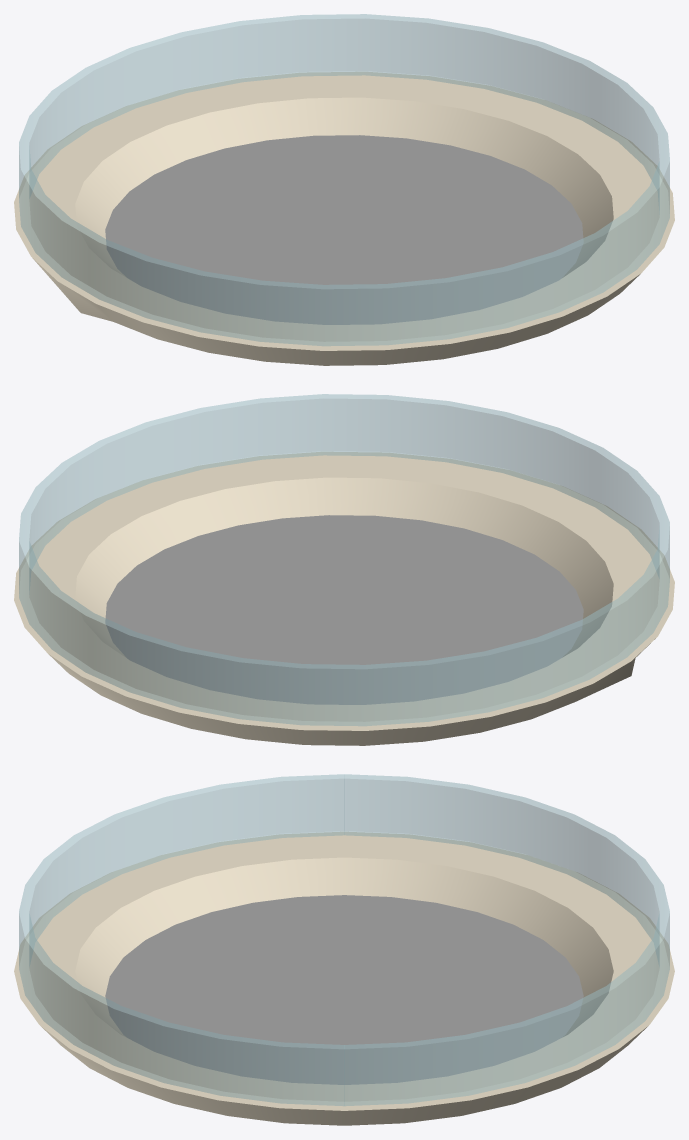
File: Room_Base.glb
3 renders of one model, top to bottom at view 1: azimuth 30°, elevation 25°; view 2: azimuth 150°, elevation 25°; view 3: azimuth 270°, elevation 25°, orthographic.
Visible parts, largest first — view 1: Room_Base.001; view 2: Room_Base.001; view 3: Room_Base.001.
Boxes of the visible parts, x1,y1,x2,y2 form: Room_Base.001: (14,14,674,365); Room_Base.001: (14,394,674,745); Room_Base.001: (14,774,674,1125).
Size of the model in its own units: 42.16 by 6.02 by 42.16.
